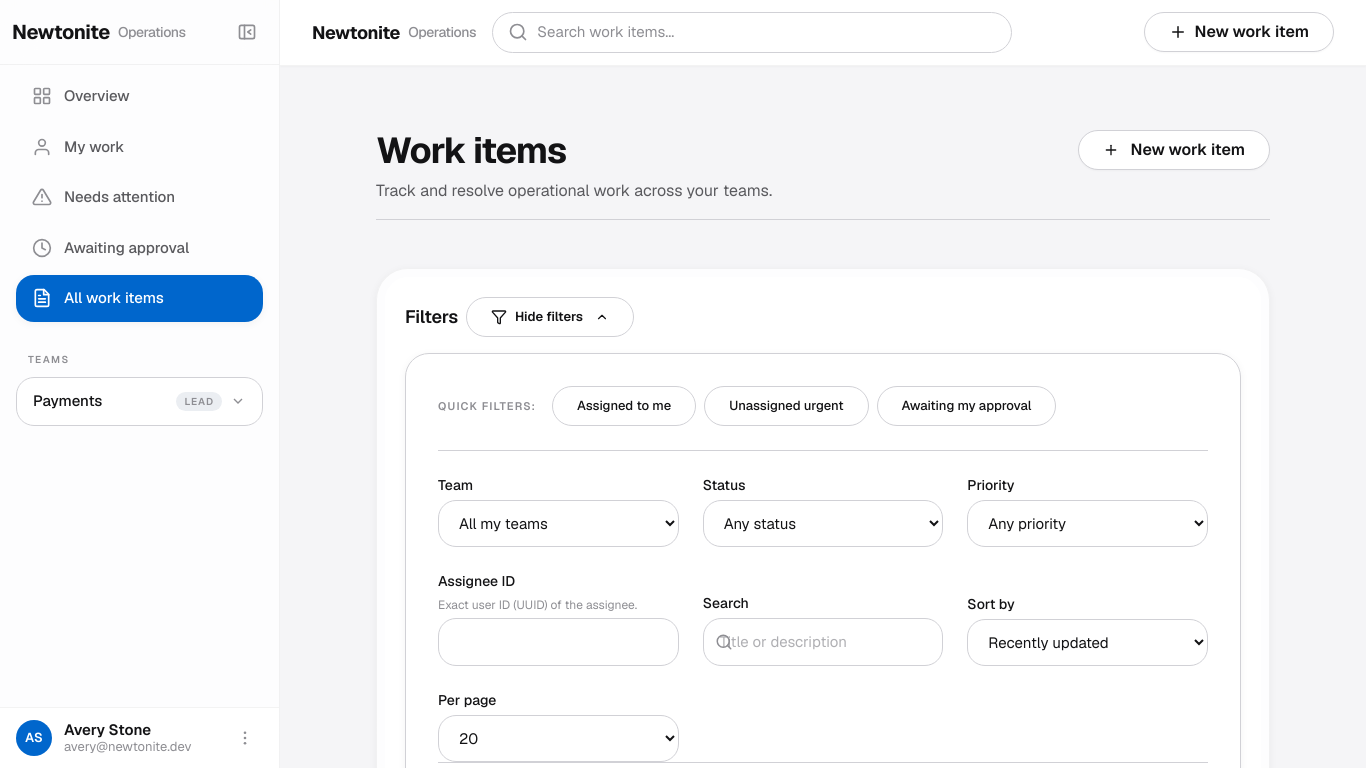
Test: session handling › signs out from the shell and clears client-held session state
This screenshot has width=1366, height=768.
Expected: the heading "Work items" is shown, [376, 126, 566, 174]
Sign-out now lives in the sidebar's account menu, not the main header.
Click the button named "open account menu".
click(245, 738)  # box [227, 720, 263, 756]
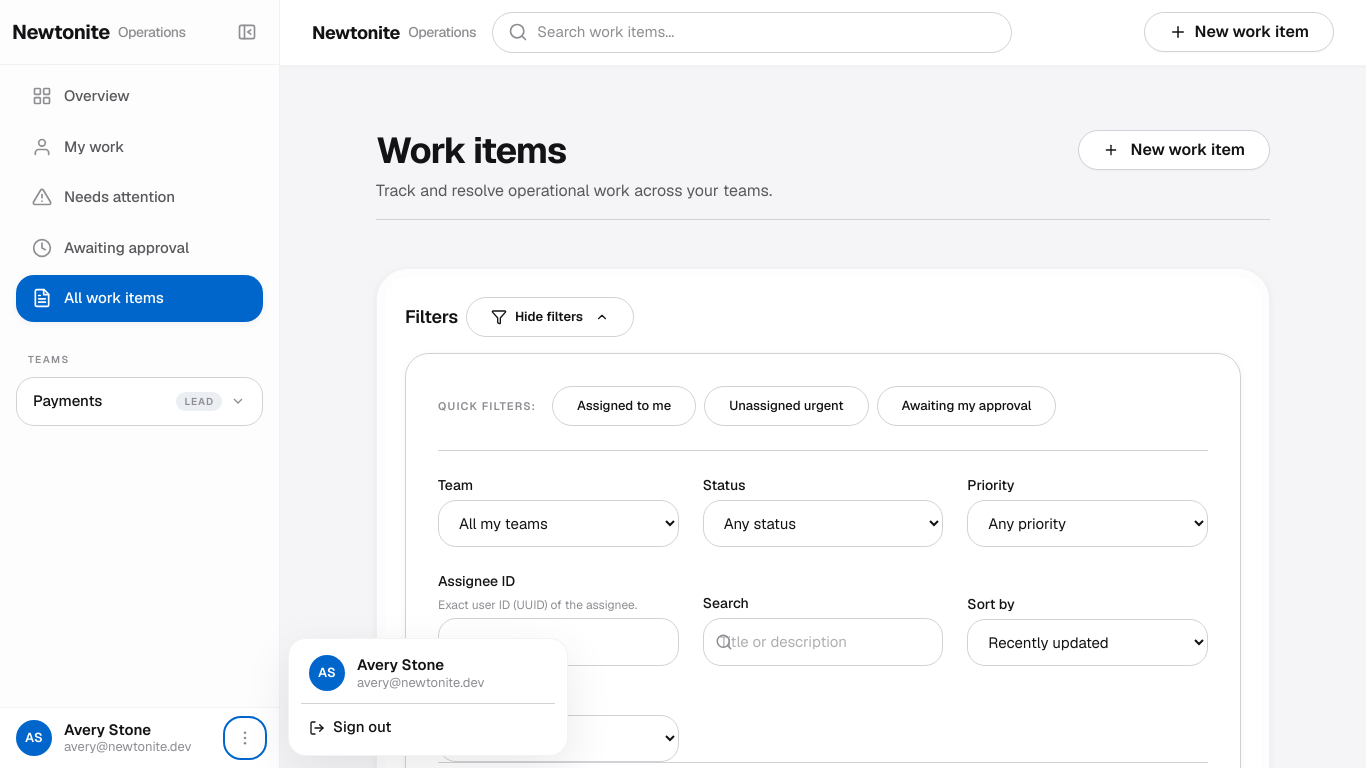
Click the menu item "Sign out".
click(362, 727)  # box [297, 708, 559, 747]
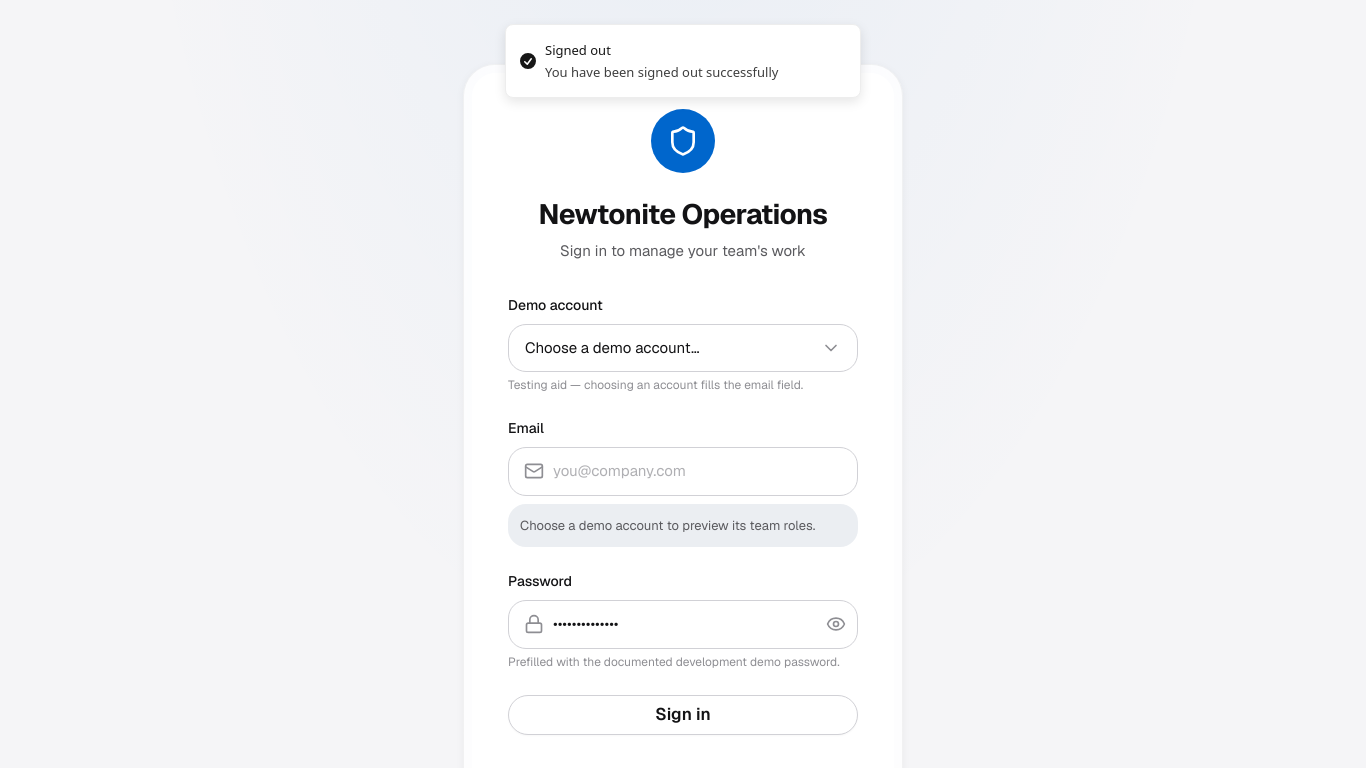
Result: the button "Sign in" is shown at [508, 694, 858, 734]
